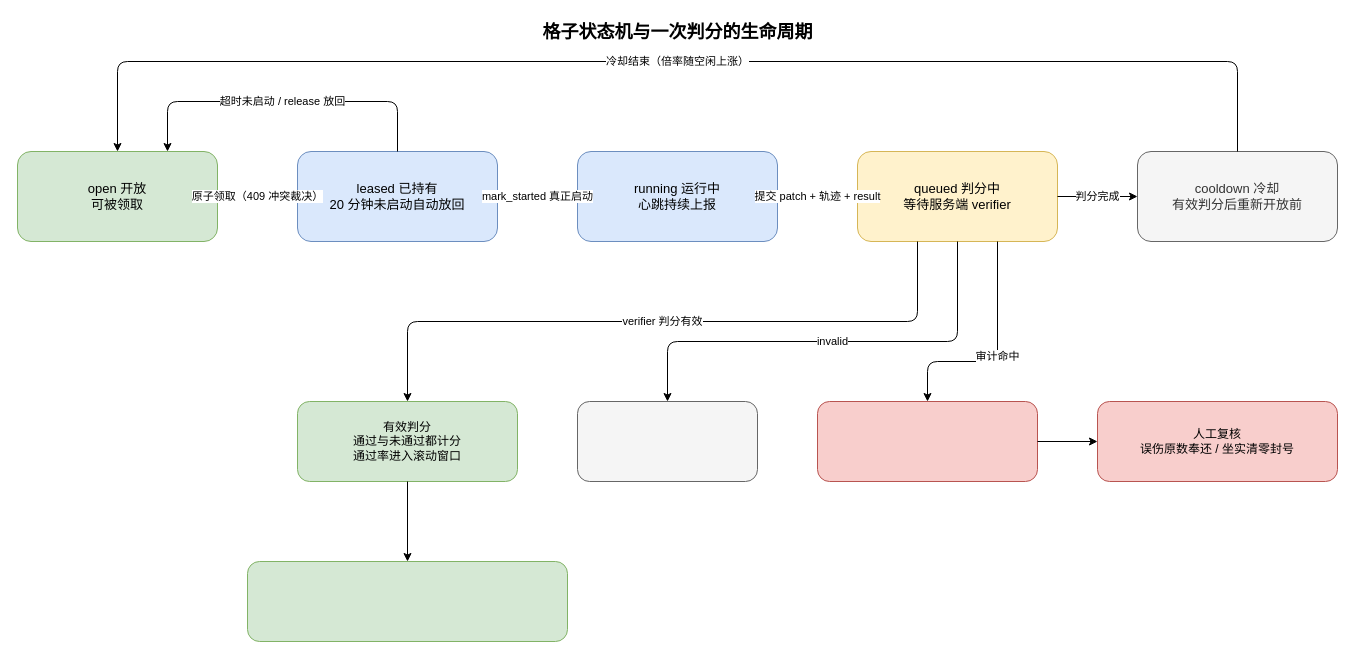
This 1355x659 diagram has some shape labels left out. Here are the shapes that lost their labels. From the top down, the centre of each, then its label:
(x=667, y=441): invalid 不计分
(x=927, y=441): 异常标记 → 先冻结 积分暂扣 · 不上榜 · 不计晋升
(x=407, y=601): 积分入库：API 等价成本 × 动态倍率 更新滚动通过率 / Macro-F1 → IQ 与天梯
